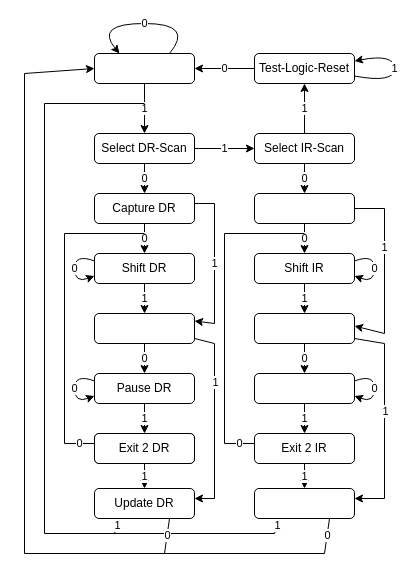
The diagram is 415 pixels wide and 572 high, and some of its shapes have lost their labels. The shapes that lost their labels are listed below. From the top down, each one's centre as x and y in pixels, then its label:
the point at 144,68: Run-Test-Idle
the point at 304,208: Capture IR
the point at 144,328: Exit-1 DR
the point at 304,328: Exit-1 IR
the point at 304,388: Pause IR
the point at 304,503: Update IR
